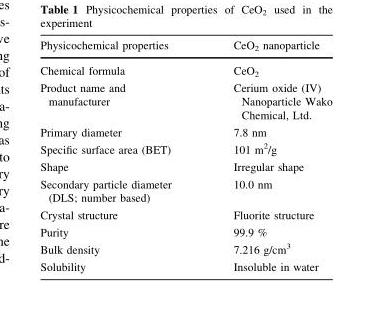table: (39, 39, 331, 272)
table column: (39, 39, 201, 272), (201, 39, 331, 272)
table column header: (39, 39, 331, 58)
table row: (39, 79, 331, 123), (39, 175, 331, 206), (39, 58, 331, 79), (39, 39, 331, 58), (39, 139, 331, 158), (39, 239, 331, 258), (39, 158, 331, 175), (39, 206, 331, 223), (39, 123, 331, 139), (39, 223, 331, 239), (39, 258, 331, 272)
